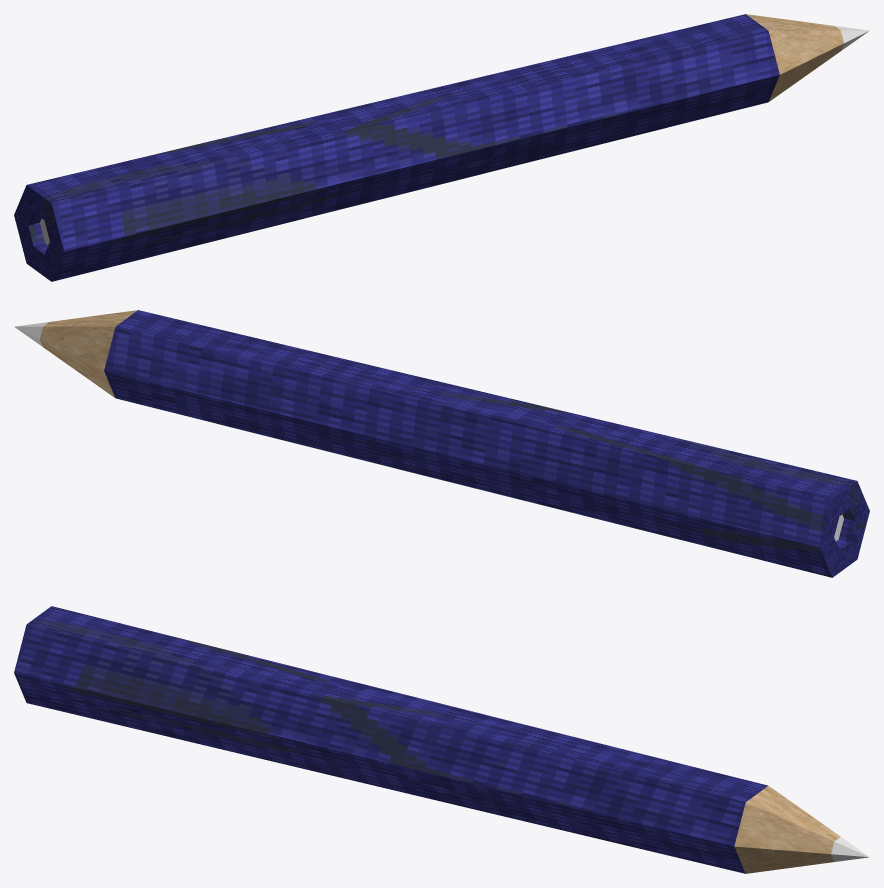
File: Matita_3_blue.fbx
The picture shows the model from 3 angles, top to bottom: view 1: azimuth 30°, elevation 25°; view 2: azimuth 150°, elevation 25°; view 3: azimuth 330°, elevation 25°; orthographic projection.
Parts seen in each view (by area): view 1: Cylinder.009; view 2: Cylinder.009; view 3: Cylinder.009.
Part boxes in pixels (x1,y1,x2,y2): Cylinder.009: (14,14,869,281); Cylinder.009: (14,310,869,577); Cylinder.009: (14,606,869,873).
Size of the model in its own units: 0.0355 by 0.00321 by 0.00371.
Materials: 3 (2 with a texture image).
